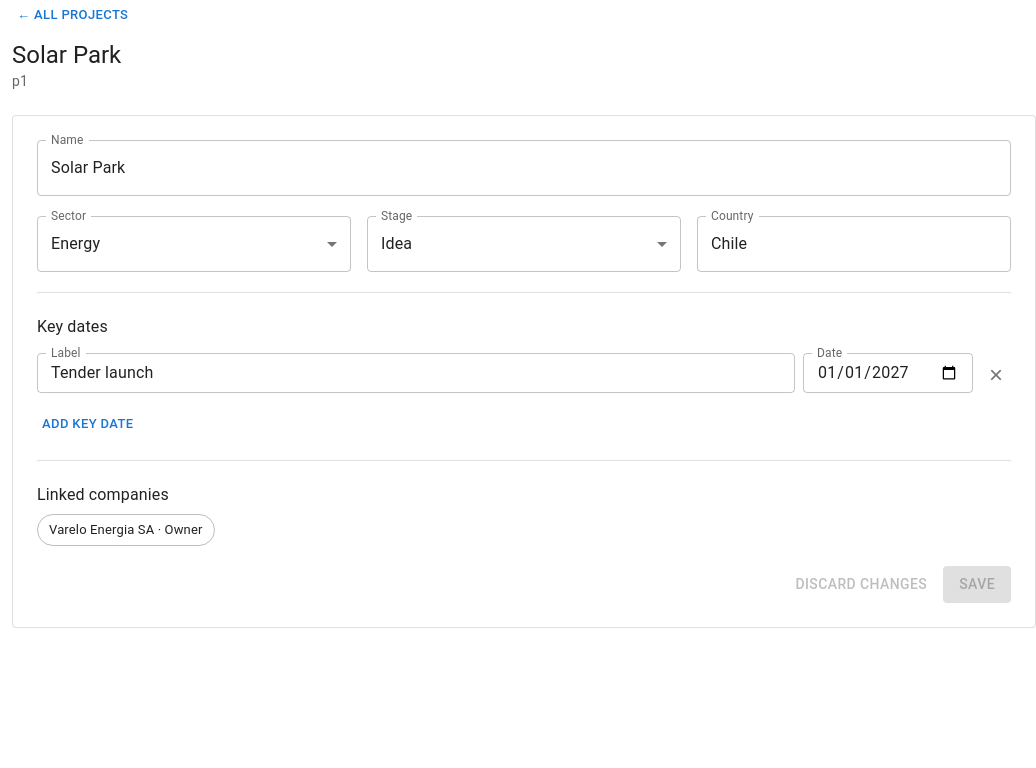
Test case: ProjectEdit › shows an error and keeps my edit when the backend fails
The image size is (1036, 768).
Step 1. Type "!" into the field labelled "Name" → (524,168), box [37,140,1011,196]
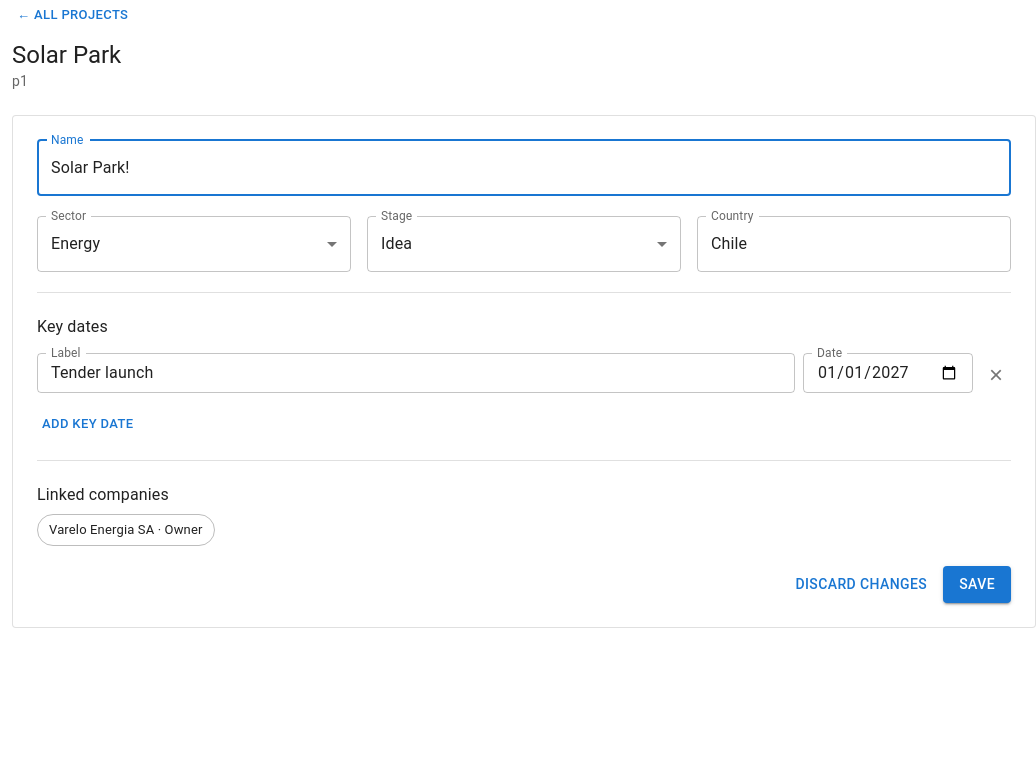
Step 2. Click the button "Save" → (977,584), box [943,566,1011,603]
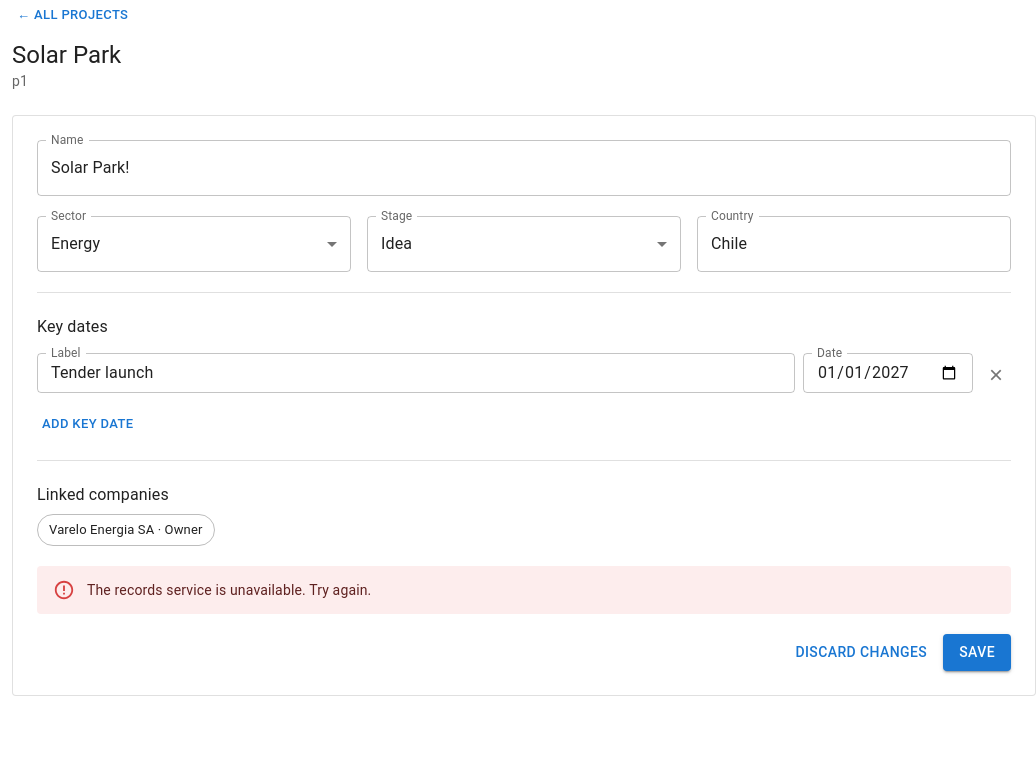
Check: the field labelled "Name" holds "Solar Park!", box [37,140,1011,196]
Check: the text "The records service is unavailable. Try again." is shown, box [87,582,371,598]
